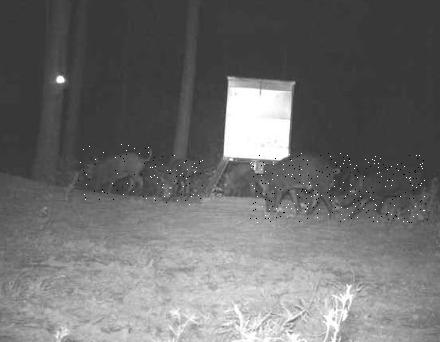Hog: (250, 153, 342, 223), (338, 155, 429, 223), (77, 144, 155, 200), (153, 155, 203, 205)
